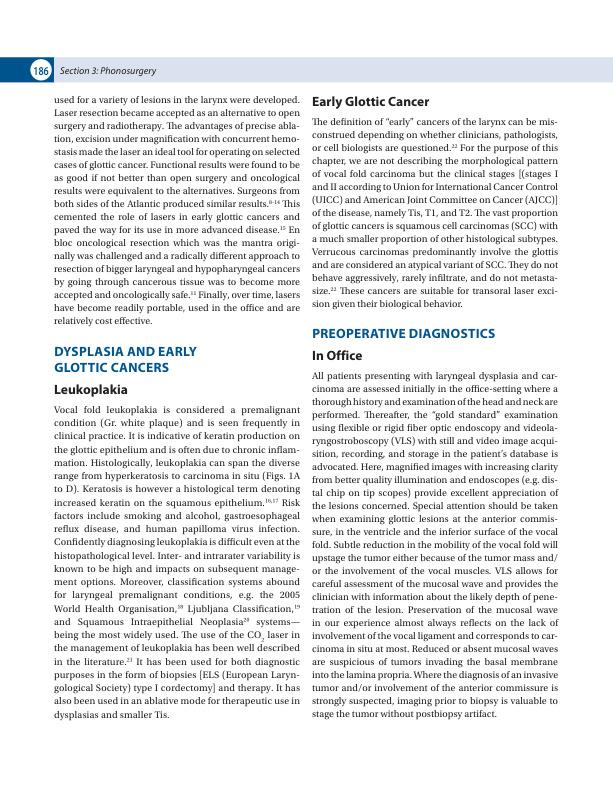header: (59, 66, 158, 77)
section-heading: (53, 345, 198, 374), (312, 328, 496, 339)
sub-section-heading: (311, 95, 431, 110), (53, 383, 128, 398), (312, 349, 364, 361)
text: (311, 371, 558, 721), (53, 405, 301, 722), (53, 95, 301, 327), (311, 116, 558, 311)
